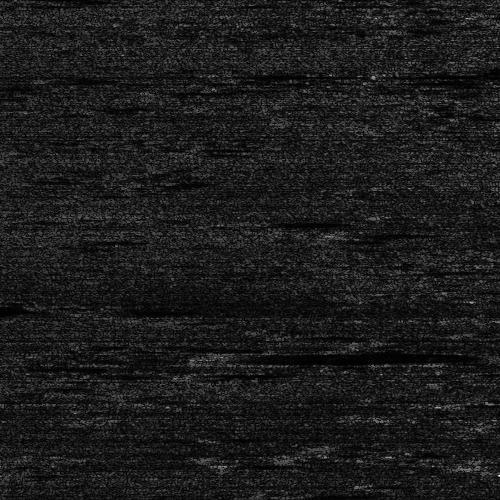object: (156, 349, 271, 364)
shadow: (213, 349, 428, 364), (0, 297, 38, 318)
